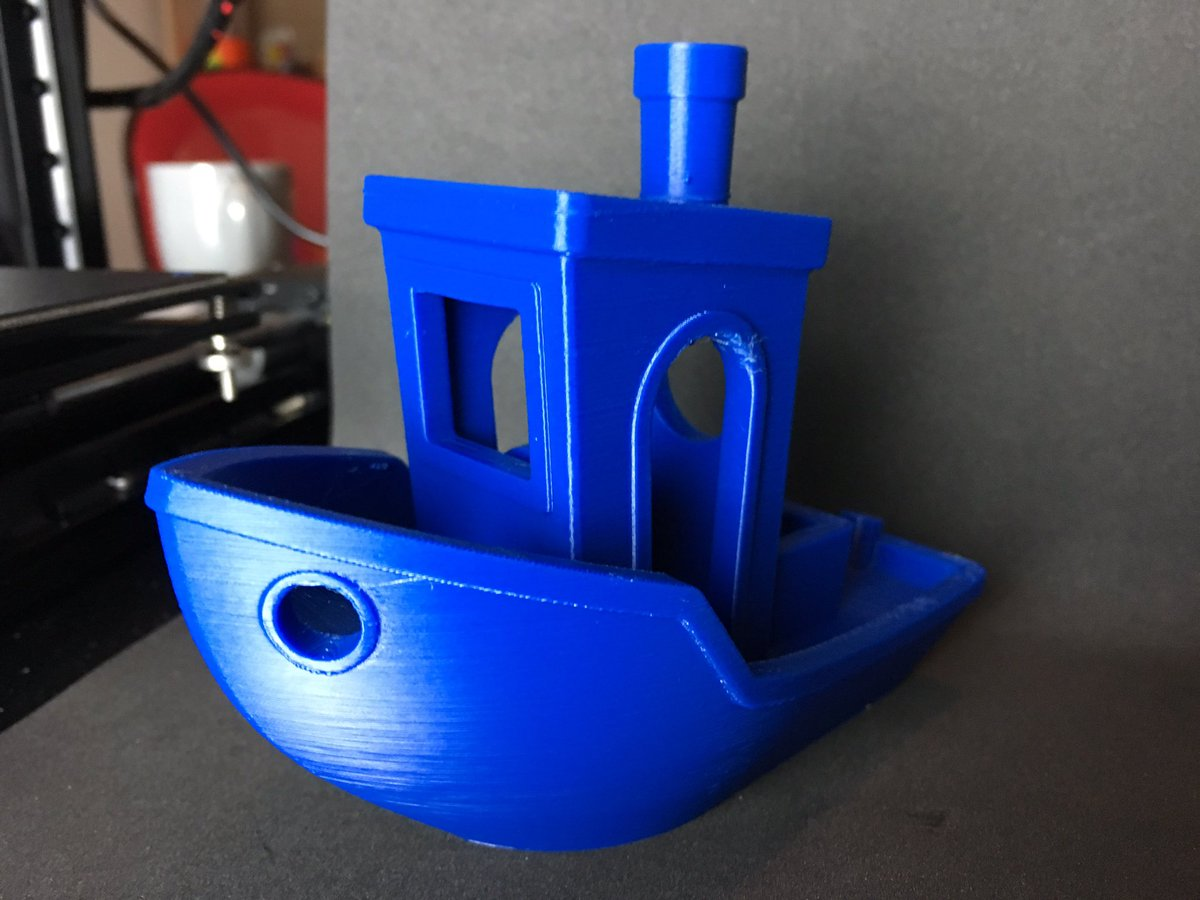Good: (133, 15, 1015, 872)
